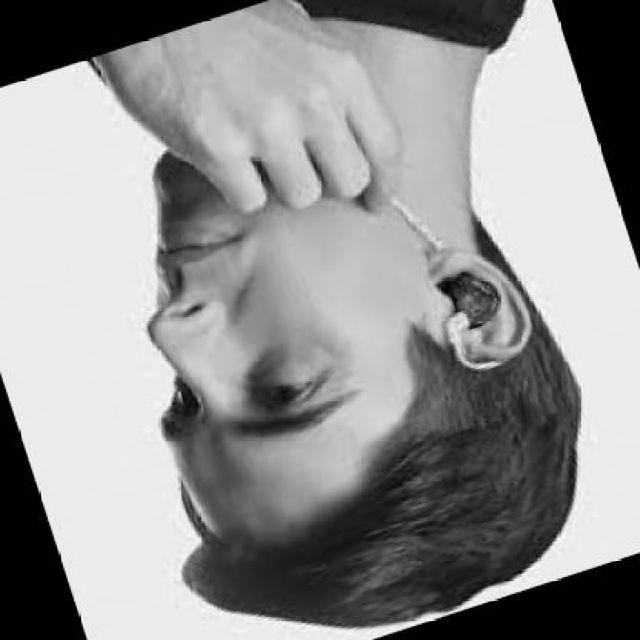earphone: (444, 262, 506, 326)
